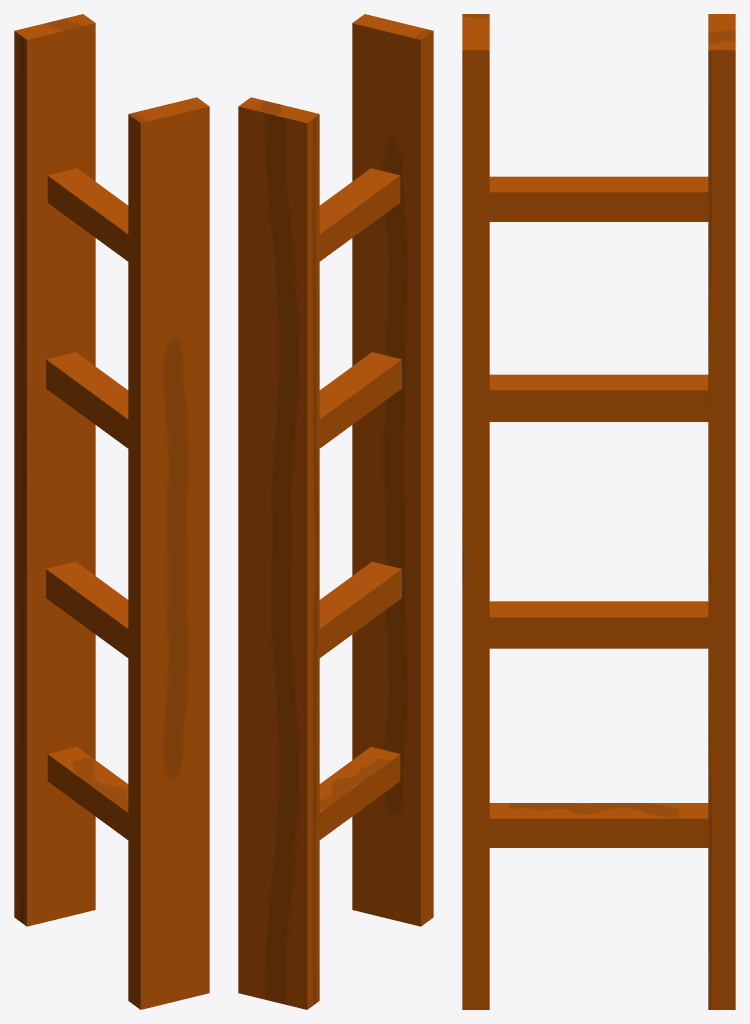
Rendered from Ladder.fbx.
The picture shows the model from 3 angles, left to right: view 1: azimuth 30°, elevation 25°; view 2: azimuth 150°, elevation 25°; view 3: azimuth 270°, elevation 25°; orthographic projection. The views are drawn at different scales.
Parts seen in each view (by area): view 1: Ladder2, Ladder, Pole2, Pole; view 2: Ladder, Pole, Ladder2, Pole2; view 3: Ladder2, Ladder, Pole2, Pole.
Part boxes in pixels (x1,y1,x2,y2): Ladder2: (46,97,209,614); Ladder: (46,509,209,1009); Pole2: (14,14,95,531); Pole: (14,425,95,926); Ladder: (319,419,433,926); Pole: (238,501,319,1009); Ladder2: (319,14,433,448); Pole2: (238,97,319,517); Ladder2: (462,14,708,582); Ladder: (462,583,708,1009); Pole2: (708,14,735,582); Pole: (708,583,735,1009).
Bounding box in the file's own units: 74.8 × 921 × 238.
